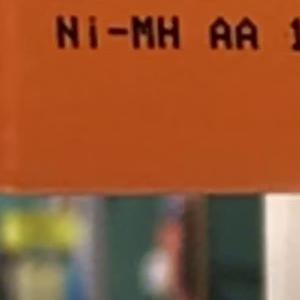NI-MH: (46, 7, 190, 58)
